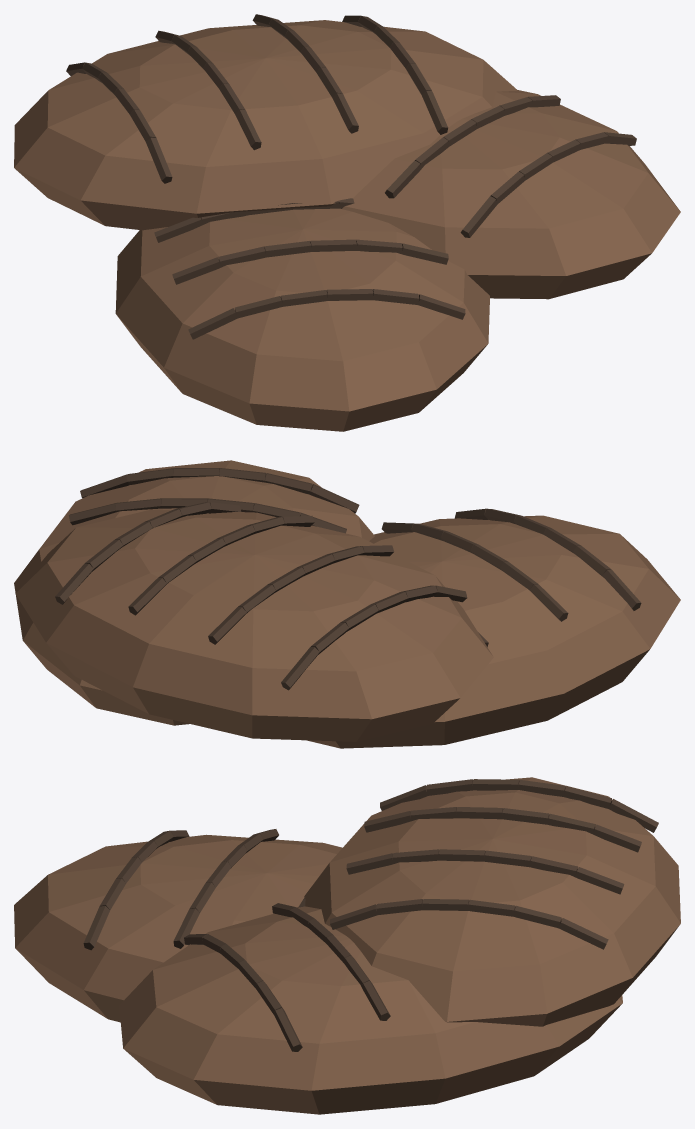
The model's file is Mat_Chitin.fbx.
3 views of the same model, one above another, from view 1: azimuth 30°, elevation 25°; view 2: azimuth 150°, elevation 25°; view 3: azimuth 270°, elevation 25° (orthographic).
Parts seen in each view (by area): view 1: Mat_Chitin; view 2: Mat_Chitin; view 3: Mat_Chitin.
Boxes of the visible parts, box(x1,y1,x2,y2) form: Mat_Chitin: box(14, 14, 680, 431); Mat_Chitin: box(14, 460, 680, 748); Mat_Chitin: box(14, 777, 680, 1114).
Size of the model in its own units: 71.8 by 27.74 by 76.8.
